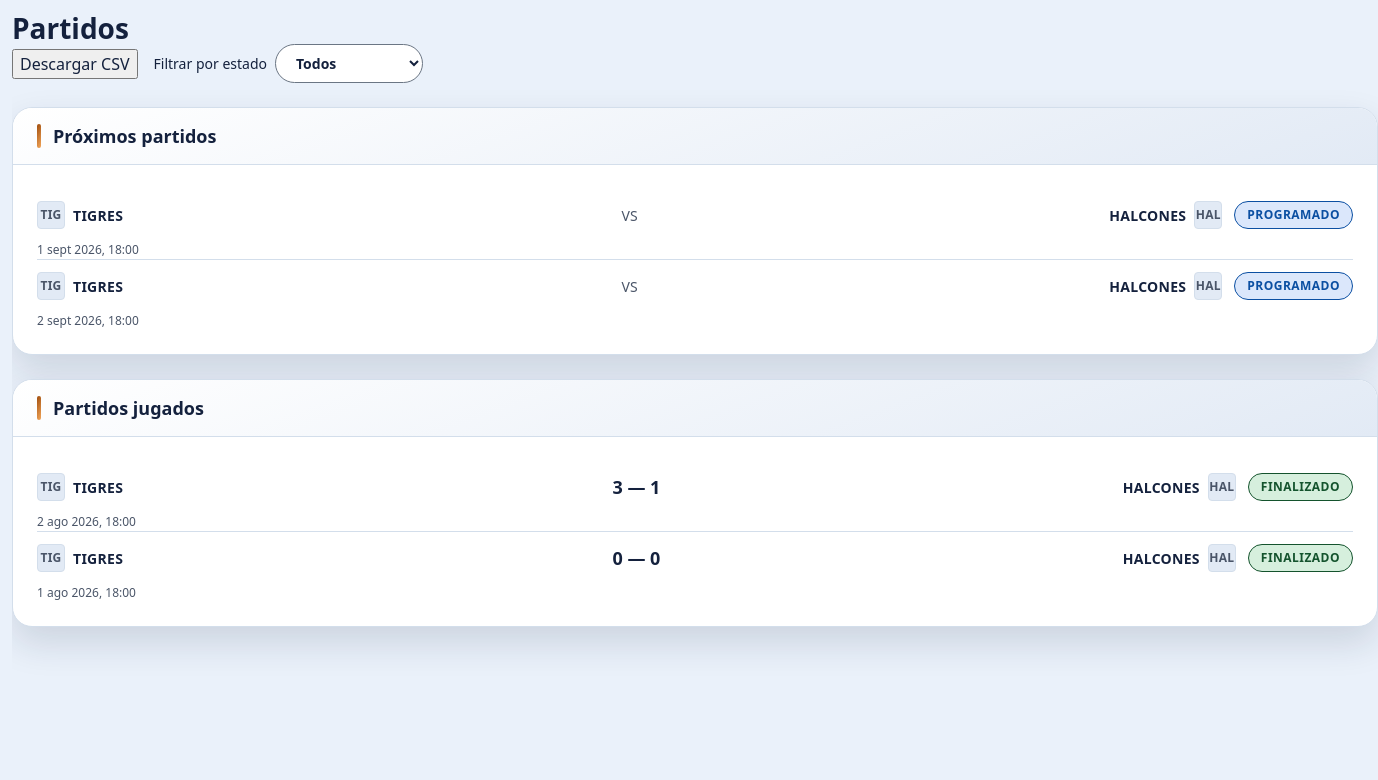
Scenario: calendario público › filtra por estado mediante un selector accesible
The image size is (1378, 780).
Select "Finalizados" in the dropdown labelled "Filtrar por estado" at (349, 64), box [275,44,423,83]
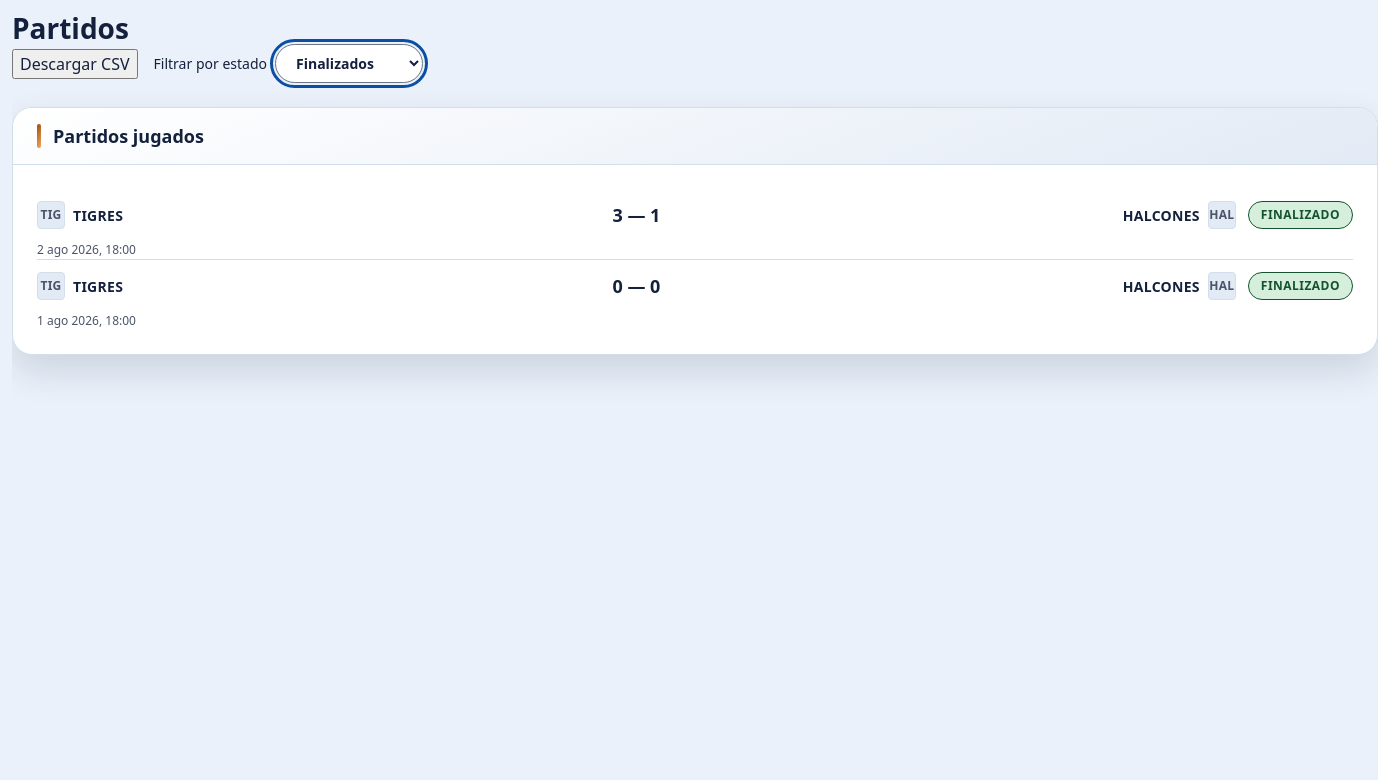
Expected: the heading "Partidos jugados" is shown, [37,124,204,148]
Expected: the heading "Próximos partidos" is gone
